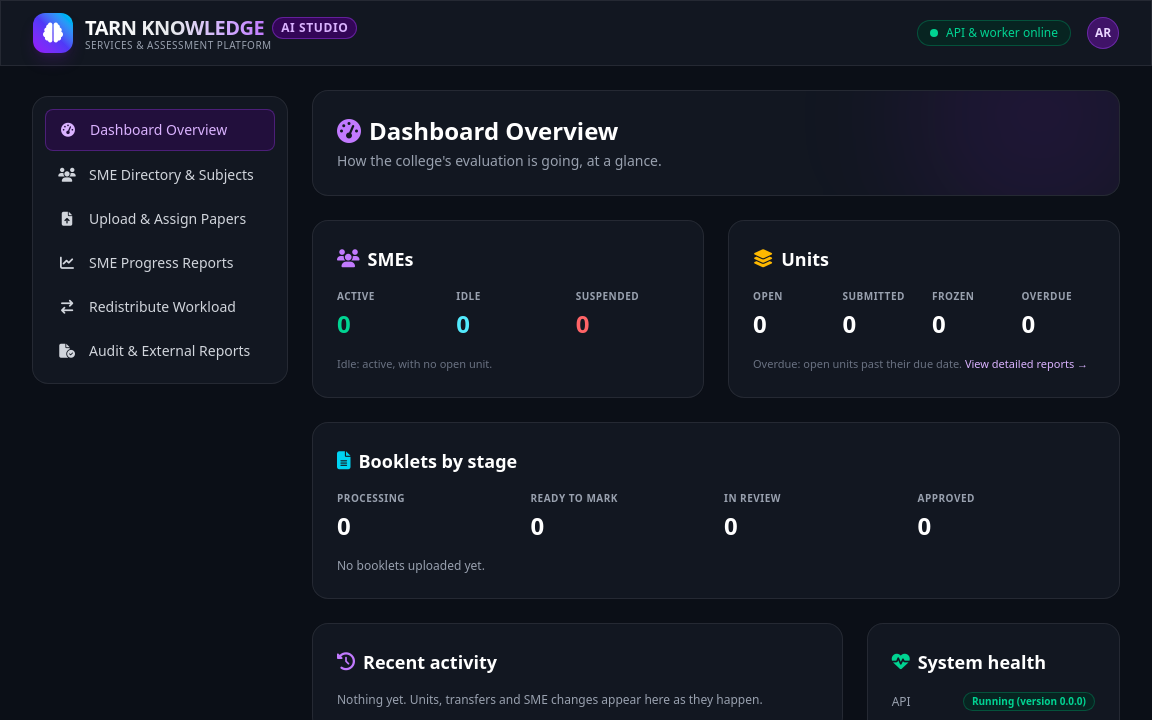
Test: admin portal shell › shows a short empty state for the sections with nothing to show
Click the link "SME Progress Reports" at (145, 262), box [57,253,234,272]
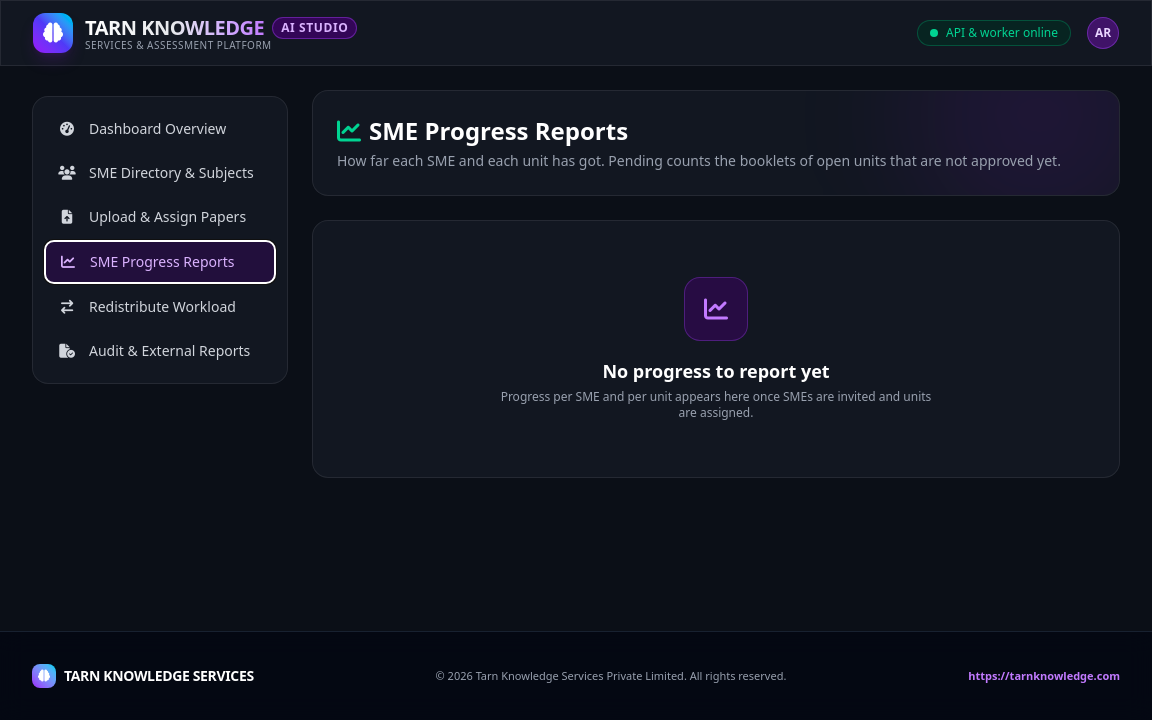
Check: the heading "SME Progress Reports" is shown, box [337,114,628,147]
Check: the heading "No progress to report yet" is shown, box [602,357,830,385]
Click the link "Audit & External Reports" at (154, 350), box [57,341,250,360]
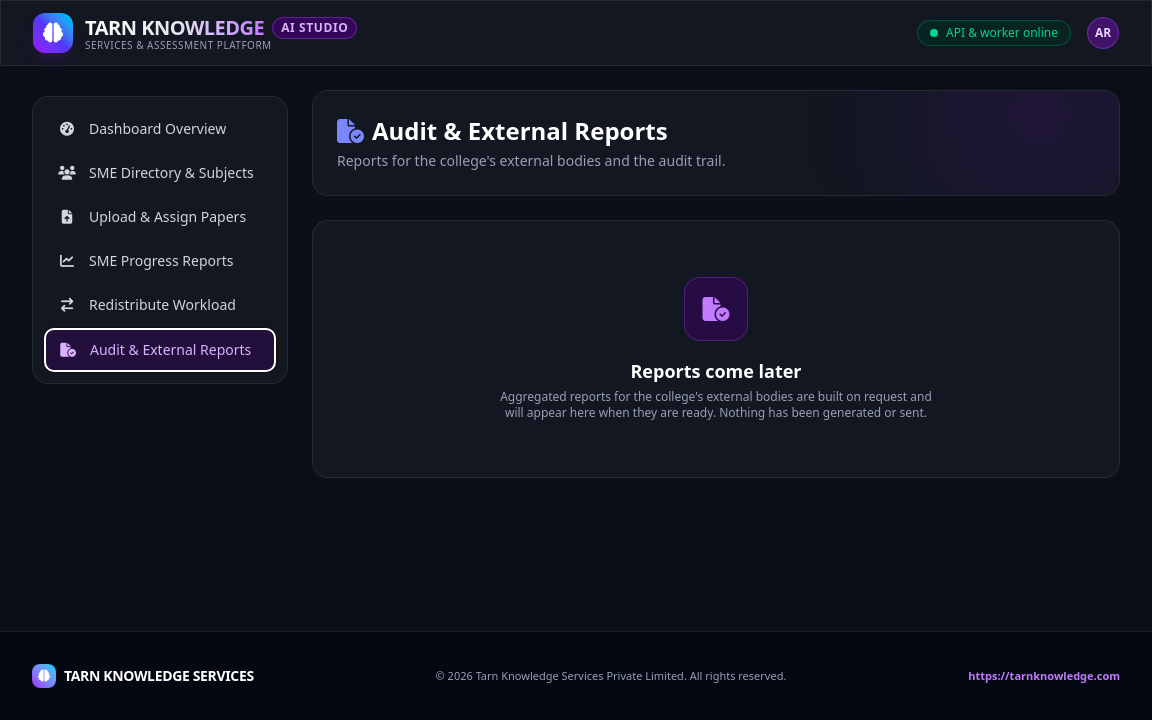
Check: the heading "Audit & External Reports" is shown, box [337,115,725,147]
Check: the heading "Reports come later" is shown, box [630,357,802,385]
